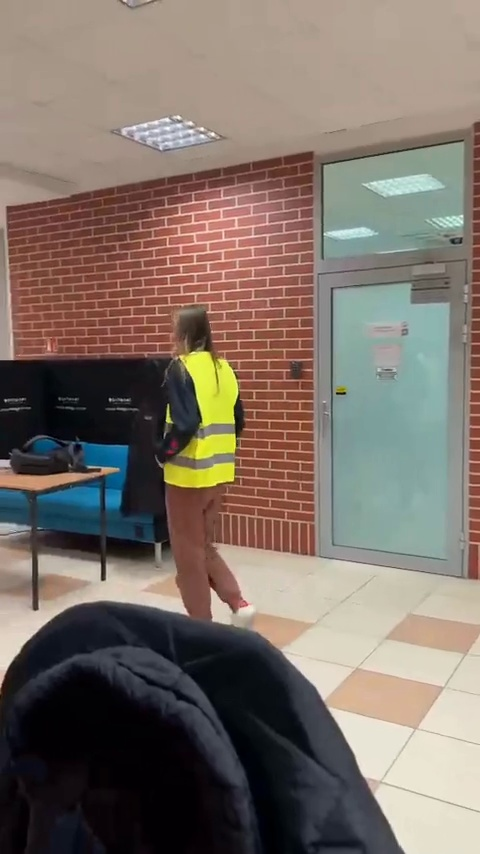vest: (148, 304, 253, 614)
